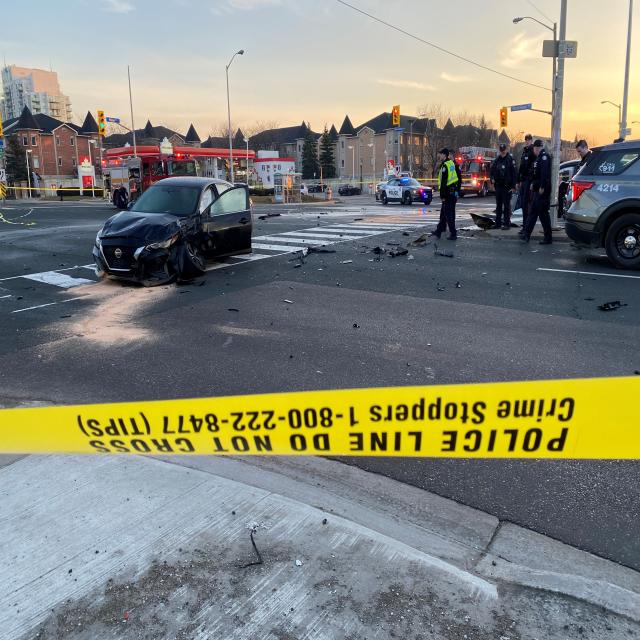Accident: (87, 165, 254, 288)
